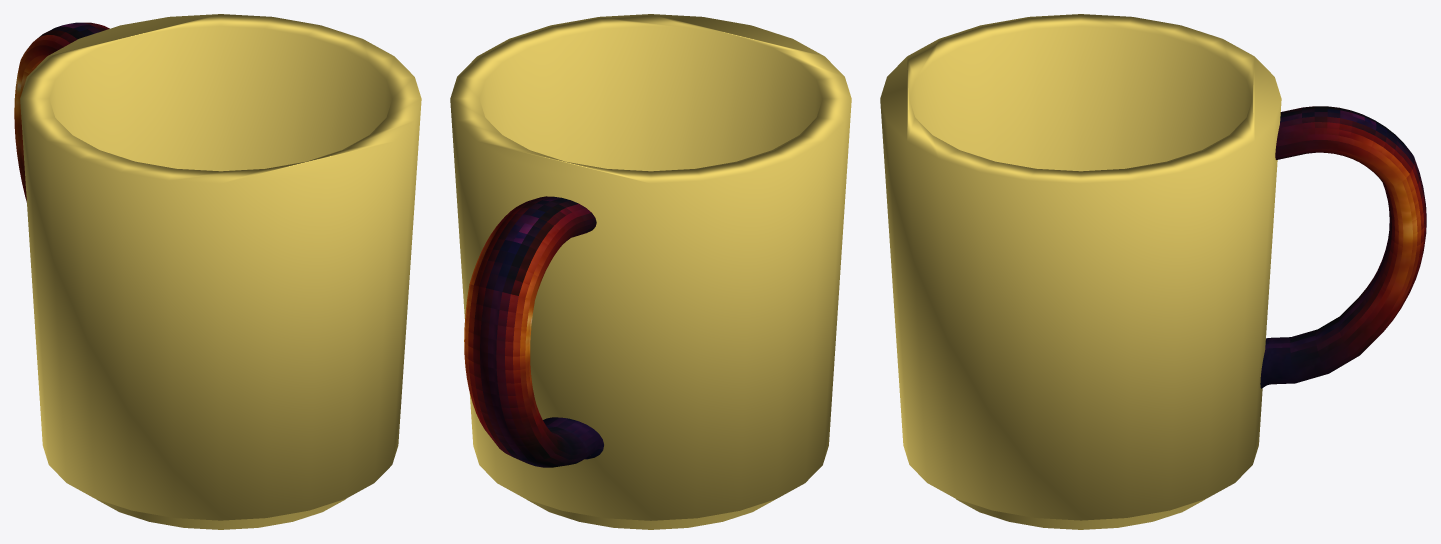
The picture shows the model from 3 angles, left to right: view 1: azimuth 30°, elevation 25°; view 2: azimuth 150°, elevation 25°; view 3: azimuth 270°, elevation 25°; orthographic projection.
Visible parts, largest first — view 1: mesh2_mesh2-geometry, mesh4_mesh4-geometry, mesh1_mesh1-geometry; view 2: mesh2_mesh2-geometry, mesh4_mesh4-geometry, mesh1_mesh1-geometry; view 3: mesh2_mesh2-geometry, mesh4_mesh4-geometry, mesh1_mesh1-geometry.
Boxes of the visible parts, <box> form: mesh2_mesh2-geometry: <box>20,14,421,520</box>; mesh4_mesh4-geometry: <box>14,22,109,202</box>; mesh1_mesh1-geometry: <box>96,499,345,529</box>; mesh2_mesh2-geometry: <box>450,14,851,520</box>; mesh4_mesh4-geometry: <box>464,196,603,467</box>; mesh1_mesh1-geometry: <box>526,499,775,529</box>; mesh2_mesh2-geometry: <box>880,14,1281,520</box>; mesh4_mesh4-geometry: <box>1260,106,1426,388</box>; mesh1_mesh1-geometry: <box>956,499,1205,529</box>.
Bounding box in the file's own units: 0.507 × 0.5161 × 0.6904.
Materials: 2 (1 with a texture image).
